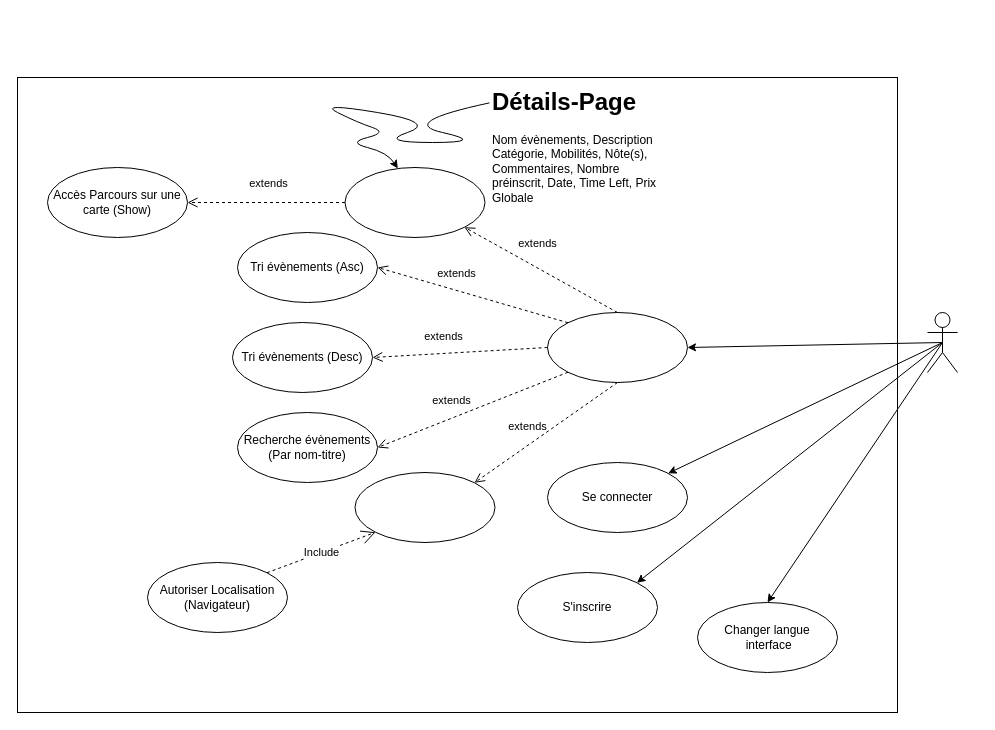
Some shapes in this 995 by 730 pixel diagram are drawn without their labels. The shapes that lost their labels are listed below. From the top down, each one's centre as x and y in pixels, then its label:
the point at 414,202: Accès Lecture évènements (Show)
the point at 617,347: Accès Liste évènements
the point at 942,342: Guest
the point at 424,507: Tri évènements (Localisation utilisateur)
